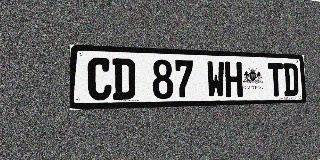7: (174, 60, 194, 99)
8: (152, 59, 173, 99)
C: (87, 57, 112, 100)
D: (112, 58, 135, 100), (283, 63, 299, 96)
H: (225, 61, 243, 97)
T: (268, 63, 284, 96)
W: (206, 61, 225, 98)
